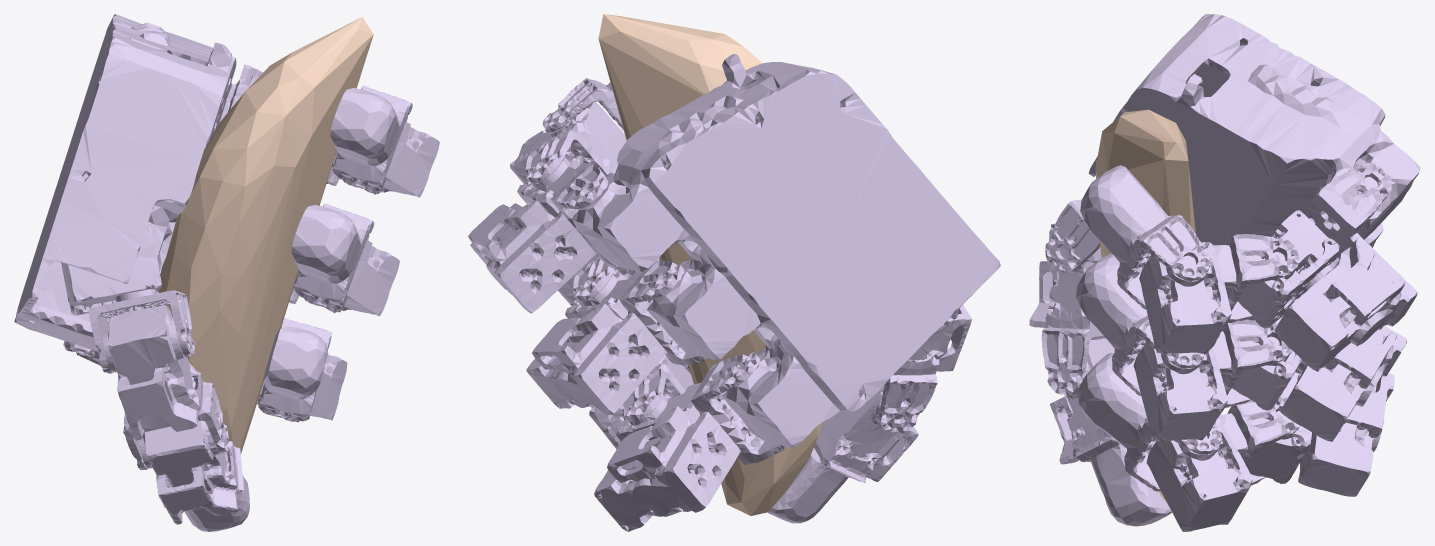
The model's file is 51654dffbf58f5-closed.glb.
3 renders of one model, left to right at view 1: azimuth 30°, elevation 25°; view 2: azimuth 150°, elevation 25°; view 3: azimuth 270°, elevation 25°, orthographic. The views are drawn at different scales.
Parts seen in each view (by area): view 1: LEAP_hand, world; view 2: LEAP_hand, world; view 3: LEAP_hand, world.
Boxes of the visible parts, box(x1,y1,x2,y2) form: LEAP_hand: box(14, 14, 439, 531); world: box(159, 17, 373, 453); LEAP_hand: box(468, 54, 1000, 531); world: box(598, 14, 822, 515); LEAP_hand: box(1029, 14, 1420, 531); world: box(1095, 109, 1195, 503).
Size of the model in its own units: 0.1899 by 0.1991 by 0.1472.
